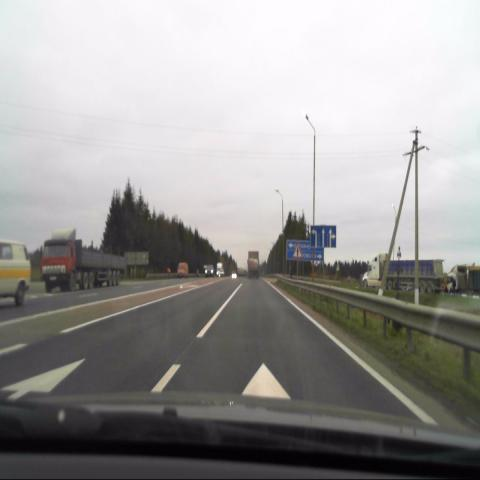5_15_1: (310, 225, 336, 248)
